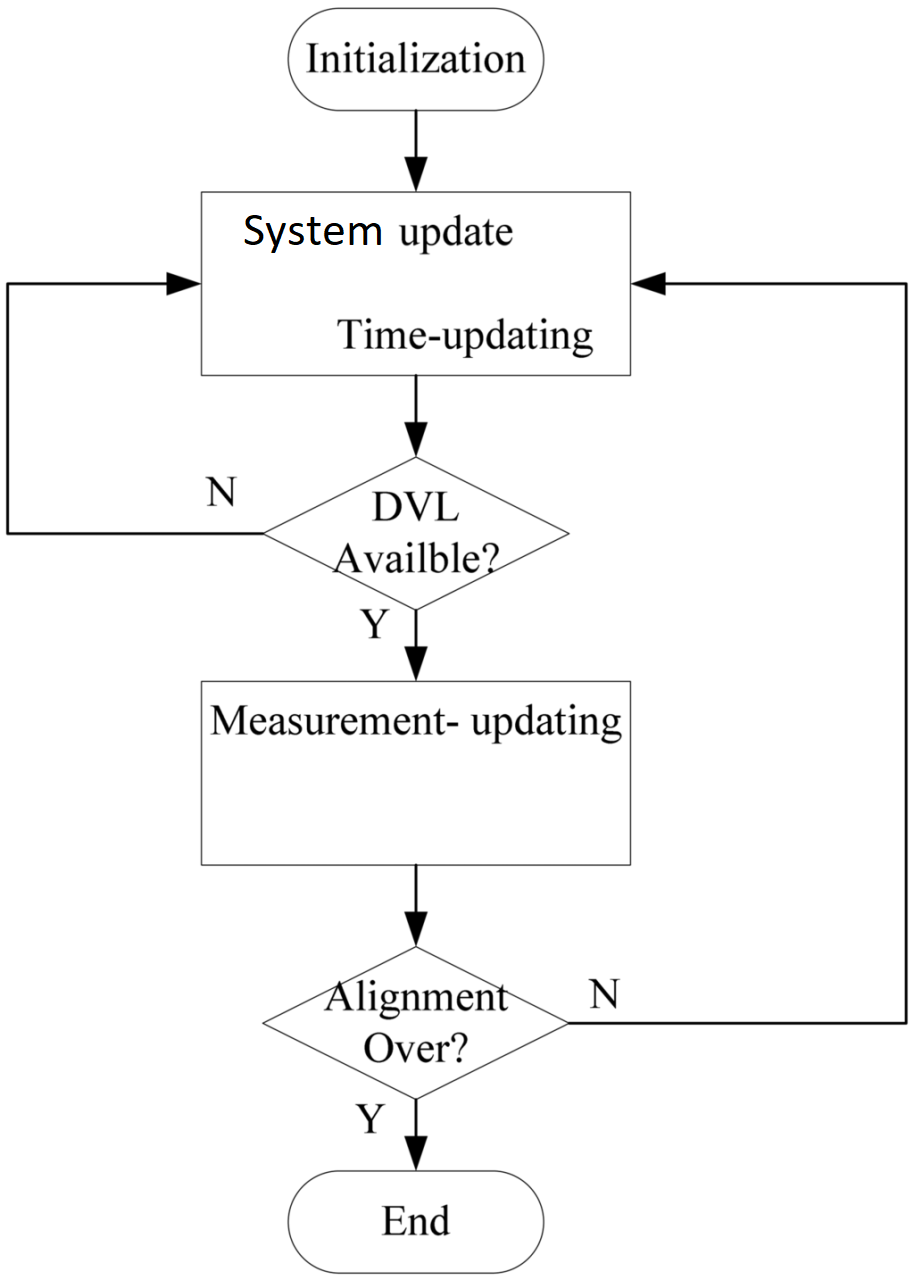arrow: (565, 265, 914, 1030), (4, 269, 271, 544), (393, 602, 437, 686), (392, 110, 434, 194), (397, 1090, 431, 1172), (399, 859, 431, 945), (399, 371, 429, 455)
decision: (255, 445, 572, 614), (259, 939, 581, 1102)
process: (193, 674, 639, 874), (193, 184, 639, 382)
terminator: (282, 0, 548, 114), (282, 1166, 545, 1280)
text: (201, 700, 625, 751), (330, 481, 508, 576), (321, 980, 507, 1066), (238, 208, 523, 259), (331, 312, 605, 364), (301, 28, 527, 80), (373, 1198, 452, 1238), (348, 598, 397, 638), (201, 471, 241, 518), (586, 968, 619, 1014), (349, 1098, 385, 1137)
